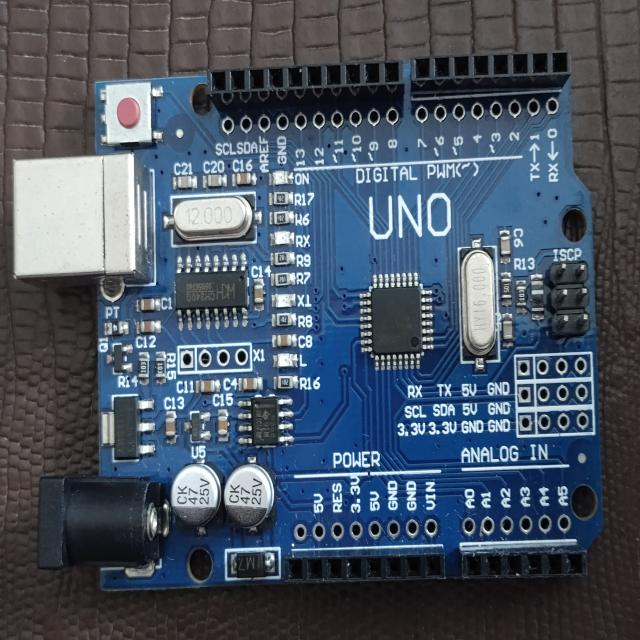arduino: (7, 39, 614, 594)
